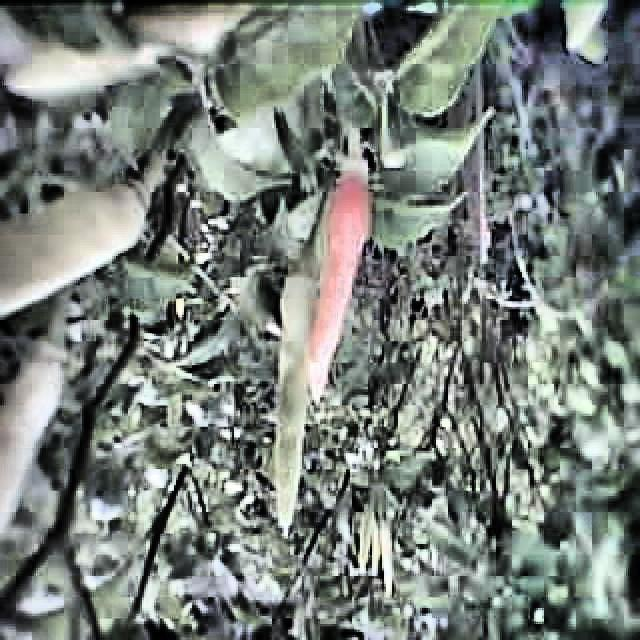Cabai: (310, 154, 379, 390)
